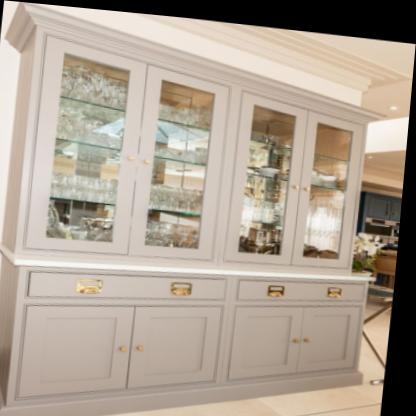Ceramic floor: (95, 376, 389, 416)
Cupboard: (4, 4, 384, 410)
